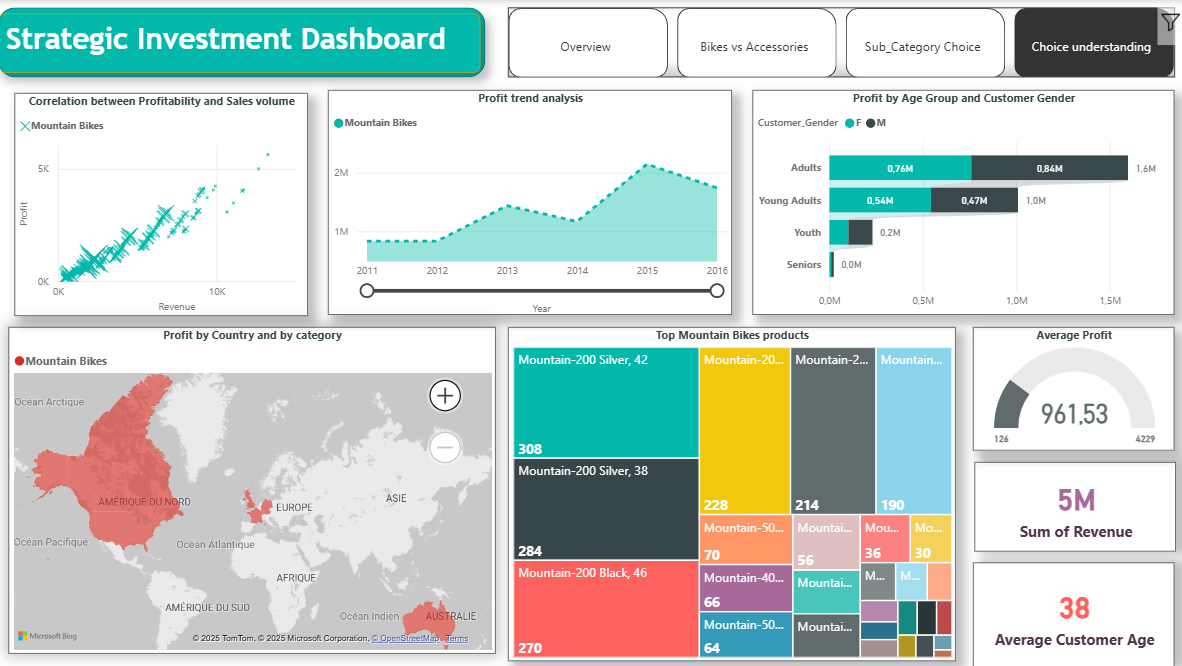

The dashboard page shown, as its layout file describes it:
{"tool":"powerbi","page":{"name":"Choice understanding","canvas":[1280,720],"ordinal":3},"visuals":[{"type":"filledMap","title":"Profit by Country and by category","fields":{"Category":["sales_bicycles (1).Country"],"Series":["sales_bicycles (1).Sub_Category"]},"box":[12,352.5,525.8,352.5],"z":0},{"type":"barChart","title":"Profit by Age Group and Customer Gender","fields":{"Category":["sales_bicycles (1).Age_Group"],"Y":["Sum(sales_bicycles (1).Profit)"],"Series":["sales_bicycles (1).Customer_Gender"]},"box":[814.9,97.2,455.4,242.9],"z":1000},{"type":"card","fields":{"Values":["Sum(sales_bicycles (1).Revenue)"]},"box":[1053.5,499.5,217.2,96.4],"z":2000},{"type":"gauge","title":"Average Profit","fields":{"Y":["Avg(sales_bicycles (1).Profit)"],"MinValue":["Min(sales_bicycles (1).Profit)1"],"MaxValue":["Max(sales_bicycles (1).Profit)2"]},"box":[1052.9,352.2,217.4,133.6],"z":3000},{"type":"shape","box":[0,8.1,526.2,75.5],"z":4000},{"type":"textbox","box":[0,13.9,520.4,63.9],"z":5000},{"type":"scatterChart","title":"Correlation between Profitability and Sales volume","fields":{"X":["sales_bicycles (1).Revenue"],"Y":["sales_bicycles (1).Profit"],"Size":["Sum(sales_bicycles (1).Order_Quantity)"],"Series":["sales_bicycles (1).Sub_Category"]},"box":[17.9,99.6,316.7,241],"z":6000},{"type":"areaChart","title":"Profit trend analysis","fields":{"Category":["sales_bicycles (1).Date.Variation.Date Hierarchy.Year","sales_bicycles (1).Date.Variation.Date Hierarchy.Quarter","sales_bicycles (1).Date.Variation.Date Hierarchy.Month","sales_bicycles (1).Date.Variation.Date Hierarchy.Day"],"Y":["Sum(sales_bicycles (1).Profit)"],"Series":["sales_bicycles (1).Sub_Category"]},"box":[357,97.2,436,242.9],"z":7000},{"type":"card","fields":{"Values":["Avg(sales_bicycles (1).Customer_Age)"]},"box":[1052.9,607.2,217.4,112.9],"z":8000},{"type":"treemap","title":"Top Mountain Bikes products","fields":{"Group":["sales_bicycles (1).Product"],"Values":["CountNonNull(sales_bicycles (1).ID)"]},"box":[550.1,352.2,483.3,360.7],"z":9000},{"type":"pageNavigator","box":[550.1,8.5,720.2,75.3],"z":10000},{"type":"actionButton","box":[1251.7,0,28.3,49],"z":11000}]}

Visuals, with their boxes in screenshot pixels (x1, y1, x2, y2), scaled from the page's 1280x720 canvas onto the 1182x666 screenshot:
"Profit by Country and by category" filledMap: left=11, top=326, right=497, bottom=652
"Profit by Age Group and Customer Gender" barChart: left=753, top=90, right=1173, bottom=315
card - Sum(sales_bicycles (1).Revenue): left=973, top=462, right=1173, bottom=551
"Average Profit" gauge: left=972, top=326, right=1173, bottom=449
shape: left=0, top=7, right=486, bottom=77
textbox: left=0, top=13, right=481, bottom=72
"Correlation between Profitability and Sales volume" scatterChart: left=17, top=92, right=309, bottom=315
"Profit trend analysis" areaChart: left=330, top=90, right=732, bottom=315
card - Avg(sales_bicycles (1).Customer_Age): left=972, top=562, right=1173, bottom=665
"Top Mountain Bikes products" treemap: left=508, top=326, right=954, bottom=659
pageNavigator: left=508, top=8, right=1173, bottom=78
actionButton: left=1156, top=0, right=1181, bottom=45
